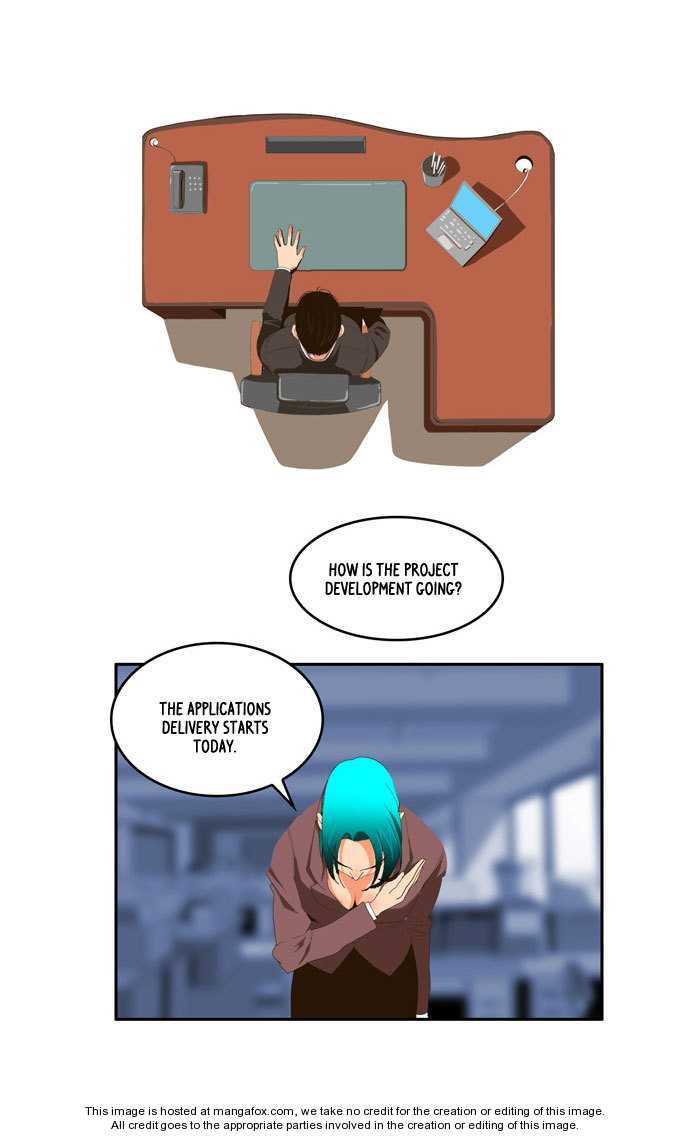bubble: (111, 643, 323, 808), (288, 518, 503, 639)
